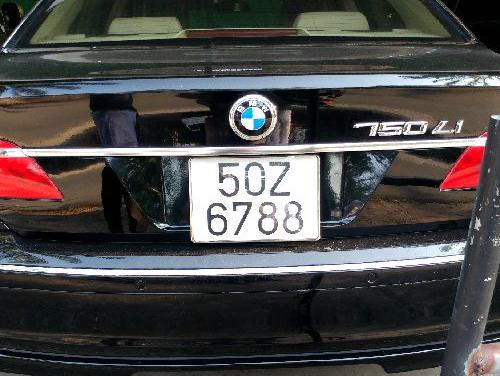lisence: (186, 152, 326, 245)
